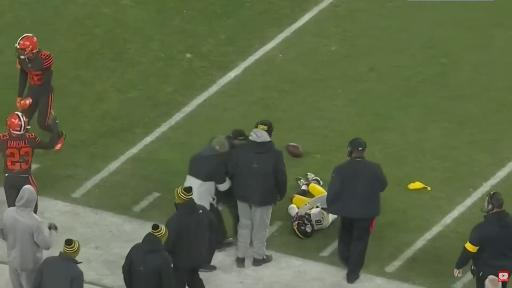Helmet: (15, 34, 38, 58), (293, 215, 314, 238), (7, 112, 28, 134)
Jersey: (0, 133, 52, 175), (18, 51, 53, 96), (299, 194, 331, 229), (307, 207, 330, 229)
Player: (0, 112, 58, 207), (16, 34, 53, 132), (288, 174, 337, 238)
